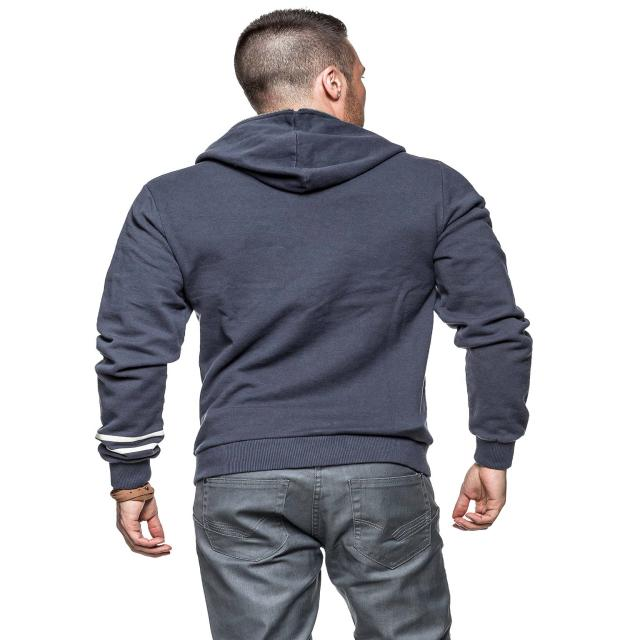adult: (95, 10, 536, 640)
